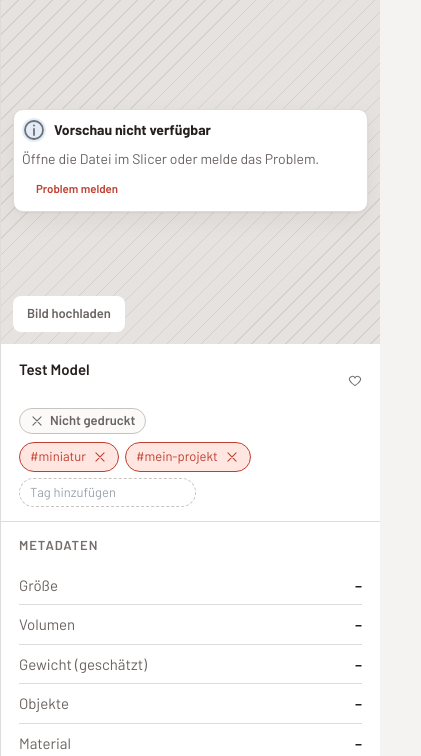
tag chips in the comfort detail panel › removes and blocks, confirms in a status message and takes the block back with Undo
The image size is (421, 756).
Click the button named "miniatur entfernen, Menü": (100, 457) [92,449,108,465]
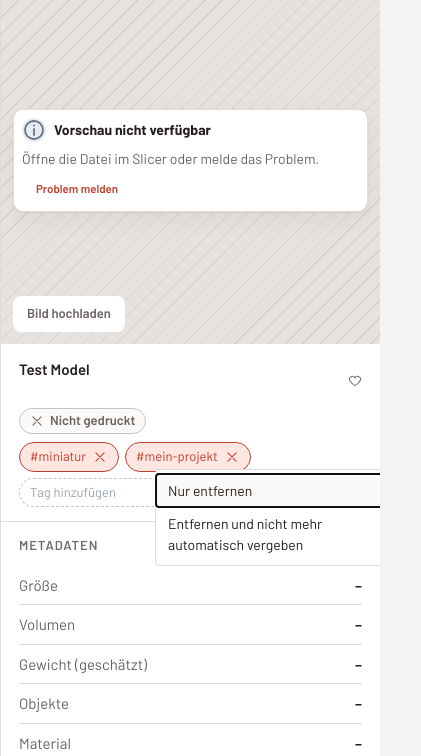
Click the menu item "Entfernen und nicht mehr automatisch vergeben": (280, 534) [156,507,404,561]
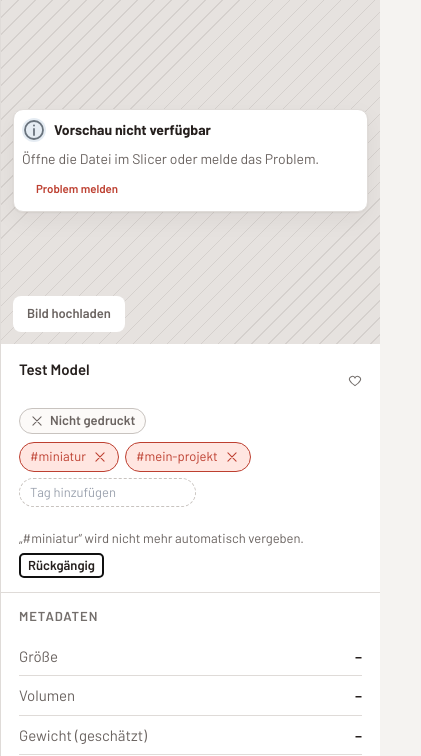
Now the message "„#miniatur“ wird nicht mehr automatisch vergeben. Rückgängig" is shown, box [19,530,304,578]
Click the button "Rückgängig": (62, 565) [19,552,104,578]
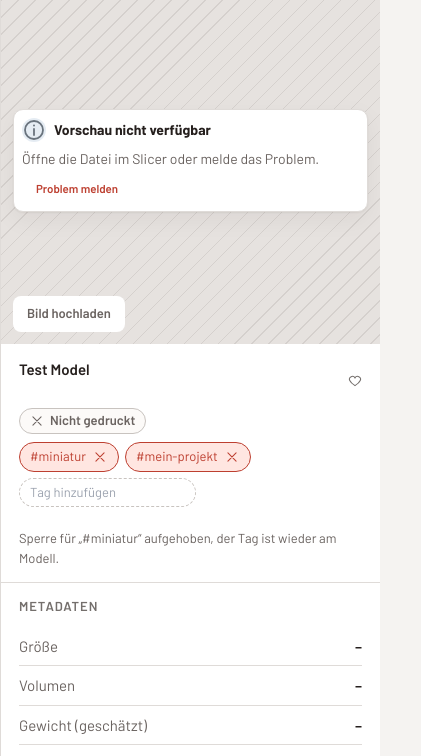
Now the message "Sperre für „#miniatur“ aufgehoben, der Tag ist wieder am Modell." is shown, box [19,529,362,568]
Now the button "Rückgängig" is gone
